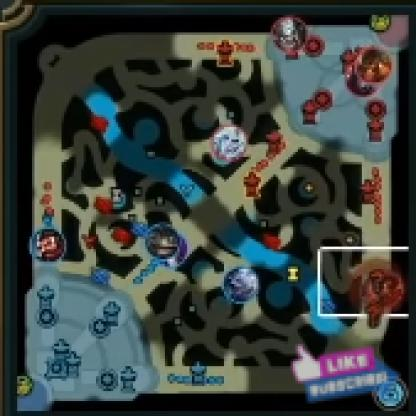Graves: (29, 230, 67, 263)
Jinx: (157, 234, 189, 268)
Nautilus: (358, 46, 394, 83)
Tahm Kench: (146, 224, 180, 259)
Tryndamere: (273, 14, 310, 53)
Viego: (210, 122, 250, 162)
Viktor: (366, 272, 406, 310)
Volibear: (224, 266, 263, 303)
